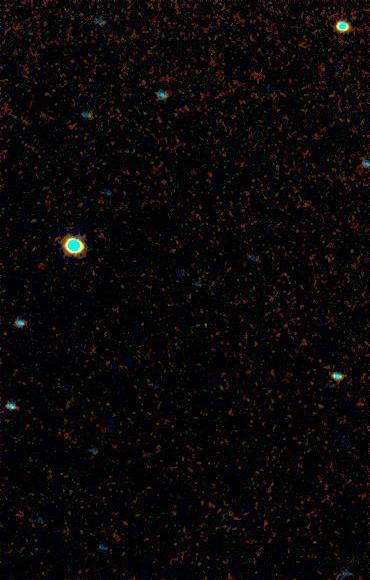star: (307, 393, 337, 423)
